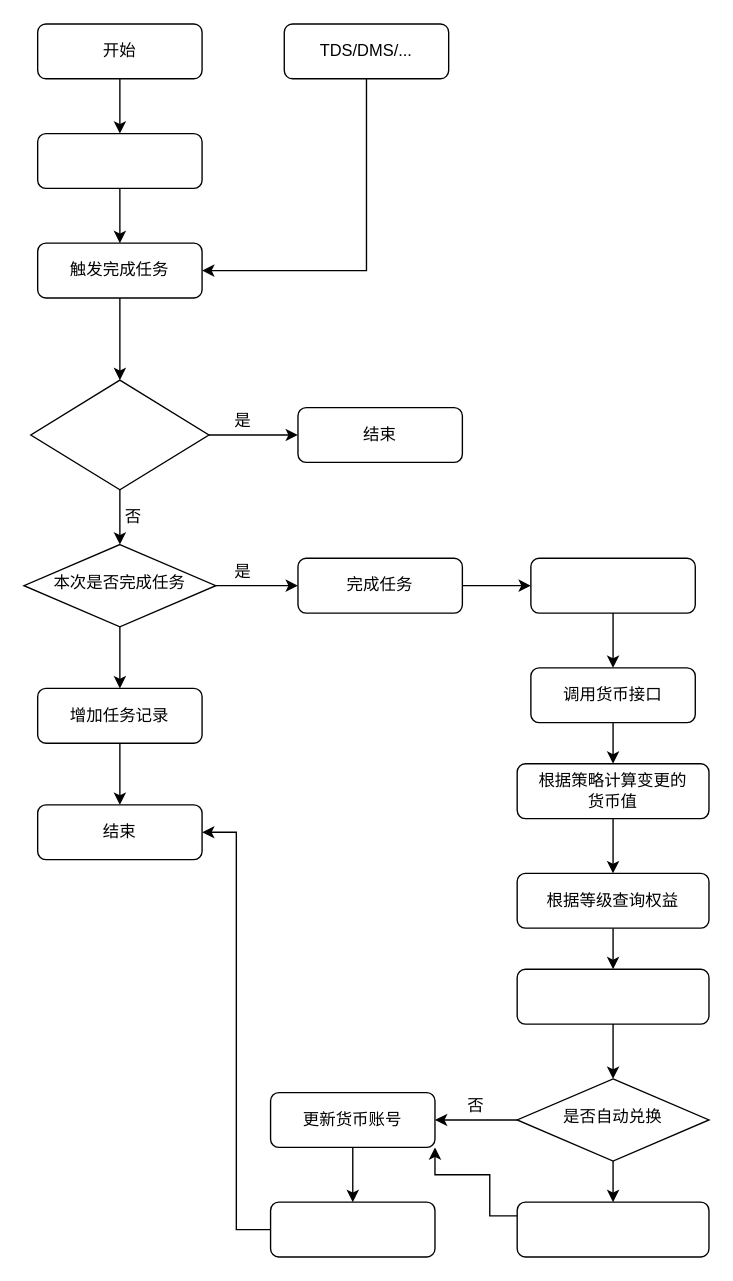
This 733x1281 diagram has some shape labels left out. The box of each missing label's shape, as (x1, y1, x2, y2) in pixels:
任务列表: (36, 132, 202, 188)
增加任务流水: (530, 557, 695, 613)
是否已经完成任务: (29, 379, 209, 490)
更新流水: (269, 1201, 435, 1257)
根据权益计算变更的 货币值: (516, 968, 709, 1024)
重新计算变更的货币值: (516, 1201, 709, 1257)
